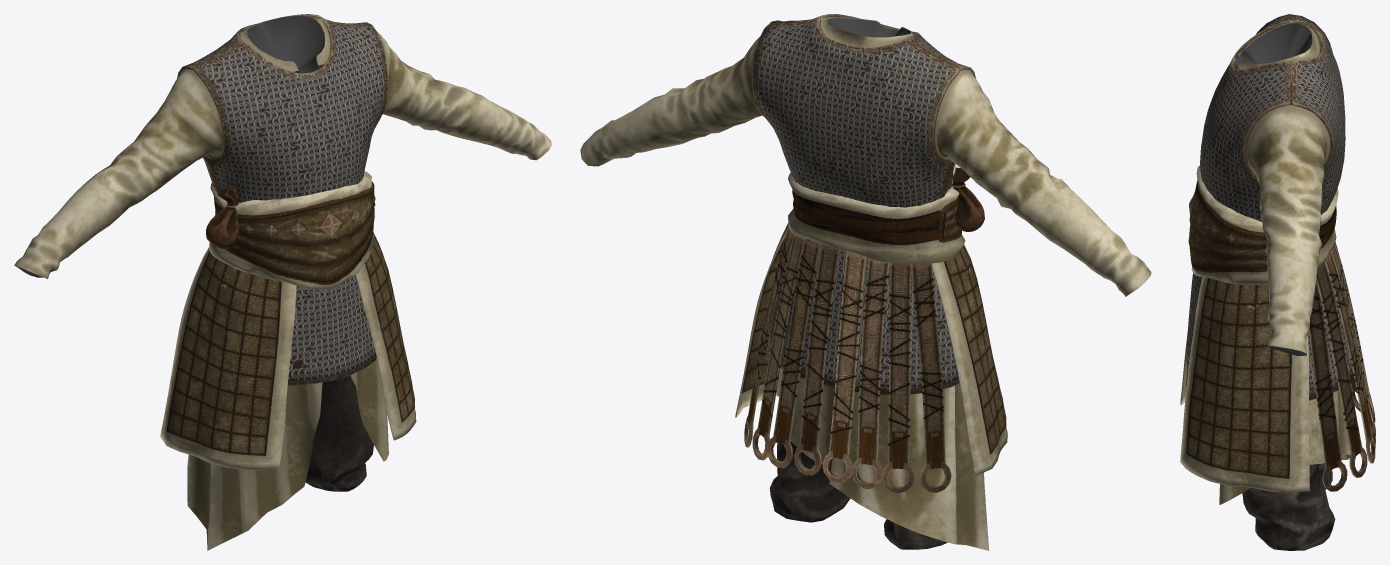
Rendered from dunland_caerdh_chainmail_elite_d.fbx.
The picture shows the model from 3 angles, left to right: view 1: azimuth 30°, elevation 25°; view 2: azimuth 150°, elevation 25°; view 3: azimuth 270°, elevation 25°; orthographic projection. The views are drawn at different scales.
Visible parts, largest first — view 1: dunland_caerdh_chainmail_elite_d, dunland_caerdh_chainmail_elite_d.beltskirt, dunland_caerdh_chainmail_elite_d.beltb, dunland_caerdh_chainmail_elite_d.skirt; view 2: dunland_caerdh_chainmail_elite_d, dunland_caerdh_chainmail_elite_d.straps, dunland_caerdh_chainmail_elite_d.skirt, dunland_caerdh_chainmail_elite_d.beltb, dunland_caerdh_chainmail_elite_d.beltskirt; view 3: dunland_caerdh_chainmail_elite_d, dunland_caerdh_chainmail_elite_d.beltskirt, dunland_caerdh_chainmail_elite_d.straps, dunland_caerdh_chainmail_elite_d.beltb, dunland_caerdh_chainmail_elite_d.skirt.
Part boxes in pixels (x1,y1,x2,y2): dunland_caerdh_chainmail_elite_d: (14,14,551,491); dunland_caerdh_chainmail_elite_d.beltskirt: (160,232,416,470); dunland_caerdh_chainmail_elite_d.beltb: (206,171,375,289); dunland_caerdh_chainmail_elite_d.skirt: (187,359,388,550); dunland_caerdh_chainmail_elite_d: (580,14,1151,549); dunland_caerdh_chainmail_elite_d.straps: (744,226,951,493); dunland_caerdh_chainmail_elite_d.skirt: (776,368,989,550); dunland_caerdh_chainmail_elite_d.beltb: (788,164,984,263); dunland_caerdh_chainmail_elite_d.beltskirt: (735,223,1007,476); dunland_caerdh_chainmail_elite_d: (1184,14,1353,550); dunland_caerdh_chainmail_elite_d.beltskirt: (1180,277,1309,493); dunland_caerdh_chainmail_elite_d.straps: (1309,242,1375,491); dunland_caerdh_chainmail_elite_d.beltb: (1188,165,1338,284); dunland_caerdh_chainmail_elite_d.skirt: (1219,390,1350,504).
Bounding box in the file's own units: 1.38 × 0.4348 × 1.21.
4 materials, 4 textured.
